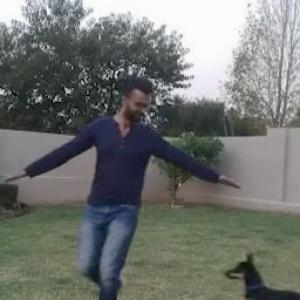land: (24, 77, 238, 299)
